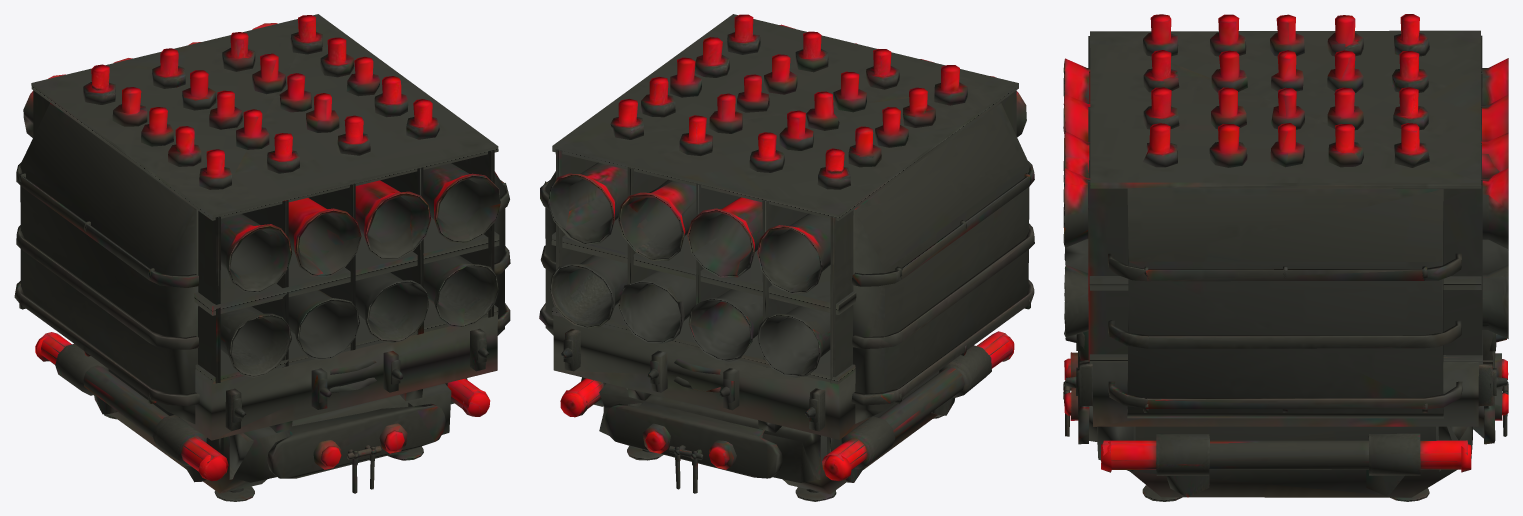
Rendered from pod.glb.
3 renders of one model, left to right at view 1: azimuth 30°, elevation 25°; view 2: azimuth 150°, elevation 25°; view 3: azimuth 270°, elevation 25°, orthographic. The views are drawn at different scales.
Bounding box in the file's own units: 1 × 0.9319 × 1.
Materials: 1 (1 with a texture image).
